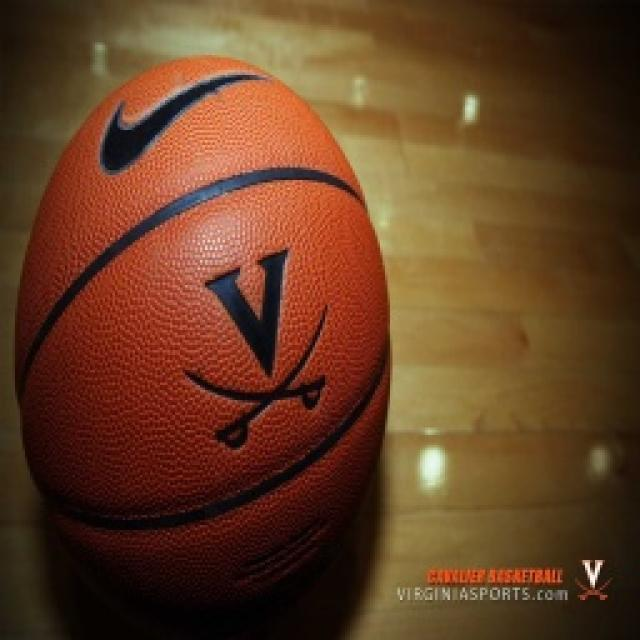basketball: (11, 48, 400, 632)
